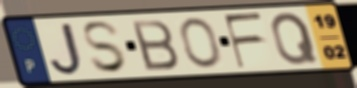B: (128, 18, 182, 73)
F: (221, 11, 266, 71)
J: (47, 21, 85, 78)
O: (178, 16, 224, 70)
Q: (269, 10, 321, 67)
S: (80, 19, 130, 76)
